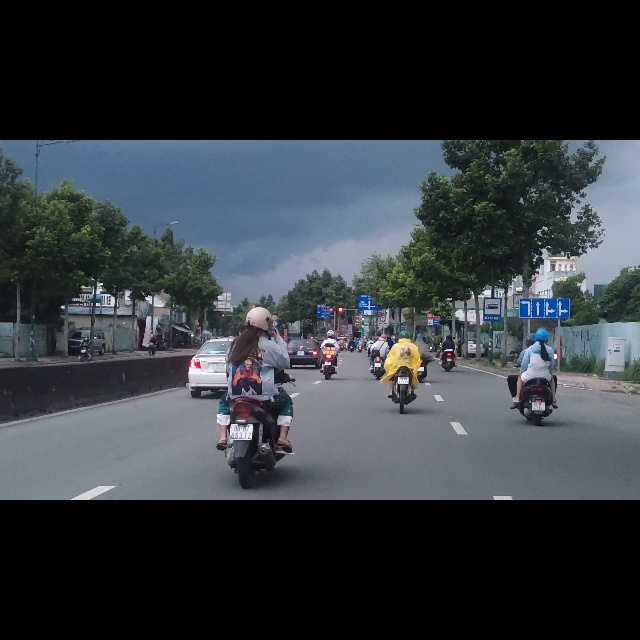bien_chi_dan: (484, 279, 501, 322), (379, 311, 386, 322)
